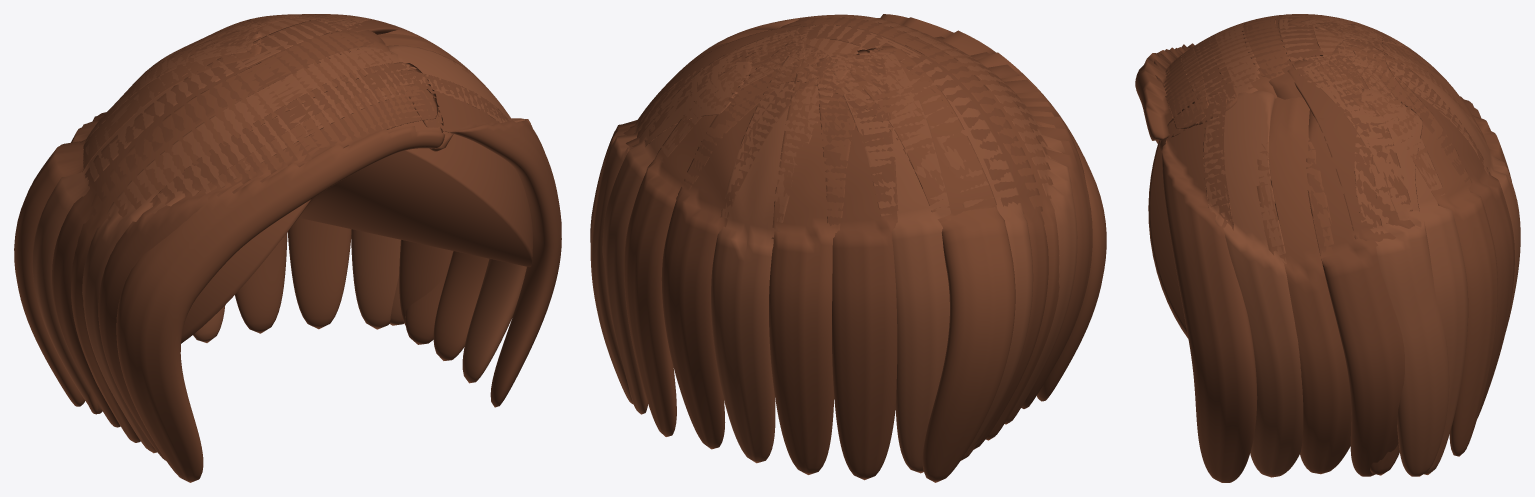
File: Feminine-bob-headband251-hair.glb
3 renders of one model, left to right at view 1: azimuth 30°, elevation 25°; view 2: azimuth 150°, elevation 25°; view 3: azimuth 270°, elevation 25°, orthographic. The views are drawn at different scales.
Parts seen in each view (by area): view 1: 226 hair / Hair / sculpted 0.004, 226 hair / Hair / sculpted 1.007, 226 hair / Hair / sculpted 2.004, 226 hair / Hair / sculpted 1; view 2: 226 hair / Hair / sculpted 0.004, 226 hair / Hair / sculpted 2.004, 226 hair / Hair / sculpted 1.007; view 3: 226 hair / Hair / sculpted 1.007, 226 hair / Hair / sculpted 2.004, 226 hair / Hair / sculpted 0.004, 226 hair / Hair / sculpted 1.
Boxes of the visible parts, bbox=[...] form: 226 hair / Hair / sculpted 0.004: bbox=[14, 14, 491, 482]; 226 hair / Hair / sculpted 1.007: bbox=[52, 14, 561, 460]; 226 hair / Hair / sculpted 2.004: bbox=[32, 14, 532, 453]; 226 hair / Hair / sculpted 1: bbox=[181, 134, 532, 343]; 226 hair / Hair / sculpted 0.004: bbox=[624, 14, 1106, 482]; 226 hair / Hair / sculpted 2.004: bbox=[590, 14, 1077, 473]; 226 hair / Hair / sculpted 1.007: bbox=[590, 14, 1092, 480]; 226 hair / Hair / sculpted 1.007: bbox=[1154, 14, 1514, 482]; 226 hair / Hair / sculpted 2.004: bbox=[1181, 14, 1520, 477]; 226 hair / Hair / sculpted 0.004: bbox=[1135, 14, 1511, 474]; 226 hair / Hair / sculpted 1: bbox=[1148, 140, 1188, 338].
Bounding box in the file's own units: 1.02 × 0.8294 × 0.7806.
